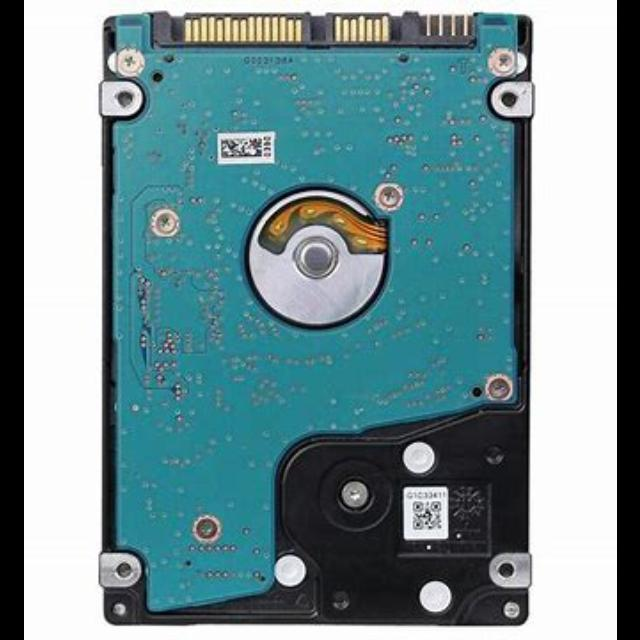HDD: (94, 11, 533, 631)
